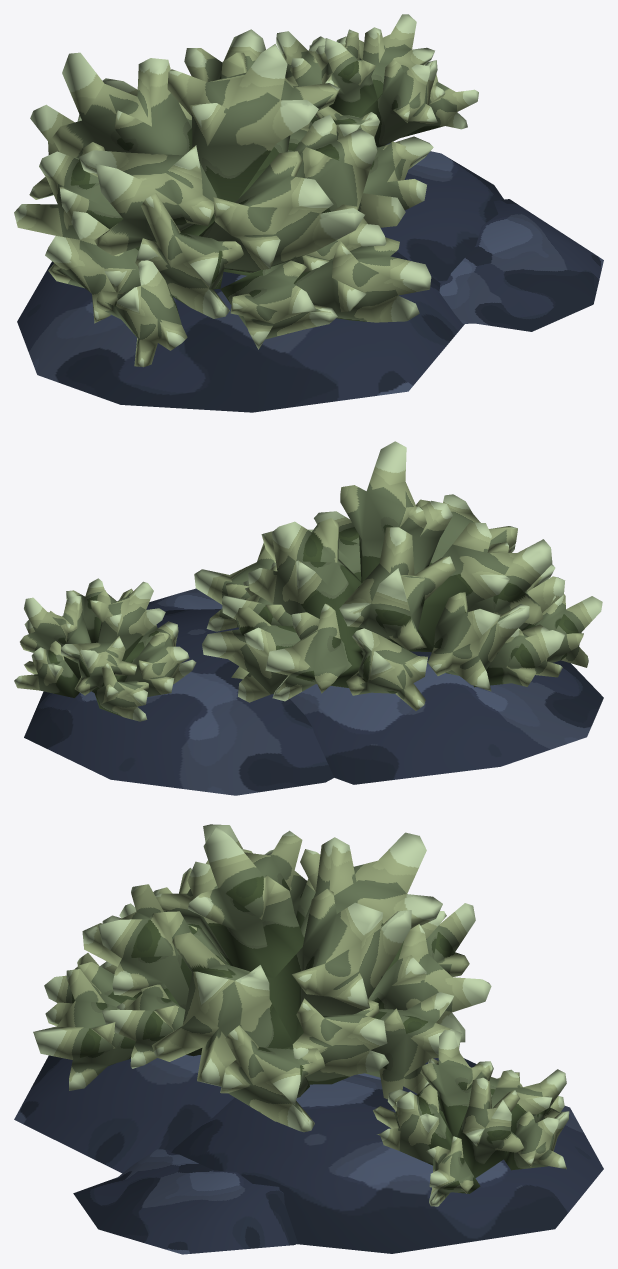
File: Clubbed Finger Coral 5_preview_3DS_simplified.glb
The picture shows the model from 3 angles, top to bottom: view 1: azimuth 30°, elevation 25°; view 2: azimuth 150°, elevation 25°; view 3: azimuth 270°, elevation 25°; orthographic projection. The views are drawn at different scales.
Parts seen in each view (by area): view 1: Marine Park Empire model; view 2: Marine Park Empire model; view 3: Marine Park Empire model.
Boxes of the visible parts, x1=… form: Marine Park Empire model: x1=14, y1=14, x2=603, y2=412; Marine Park Empire model: x1=14, y1=441, x2=603, y2=795; Marine Park Empire model: x1=14, y1=824, x2=603, y2=1254.
Size of the model in its own units: 166 by 81.33 by 158.
2 materials, 2 textured.
